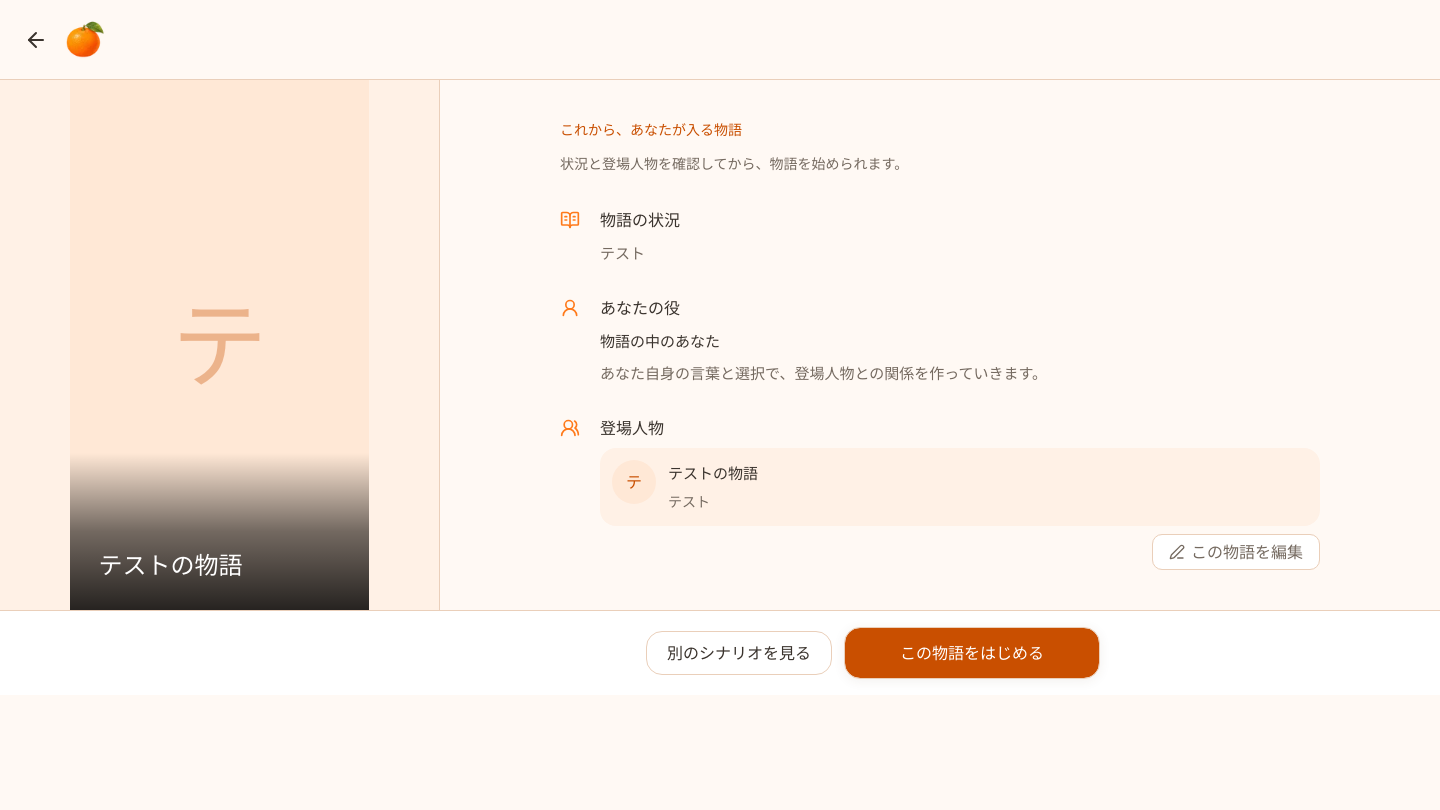
Test: ScenarioScreen › 編集に失敗したら理由を表示する
The image size is (1440, 810).
Click the button "この物語を編集".
click(1236, 552)  # box x1=1152 y1=534 x2=1320 y2=570
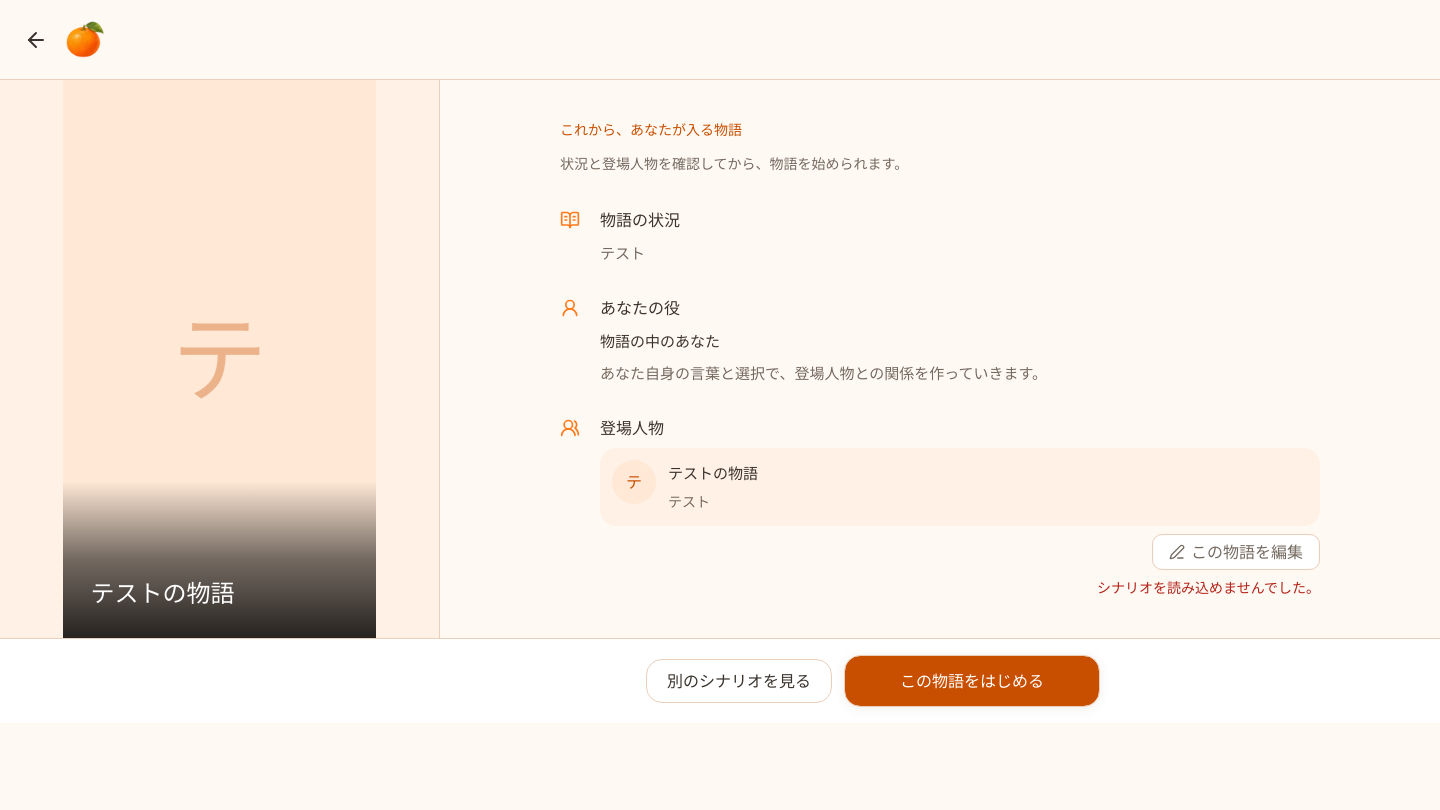
expect the message reads "シナリオを読み込めませんでした。": met, box x1=1097 y1=579 x2=1320 y2=596
